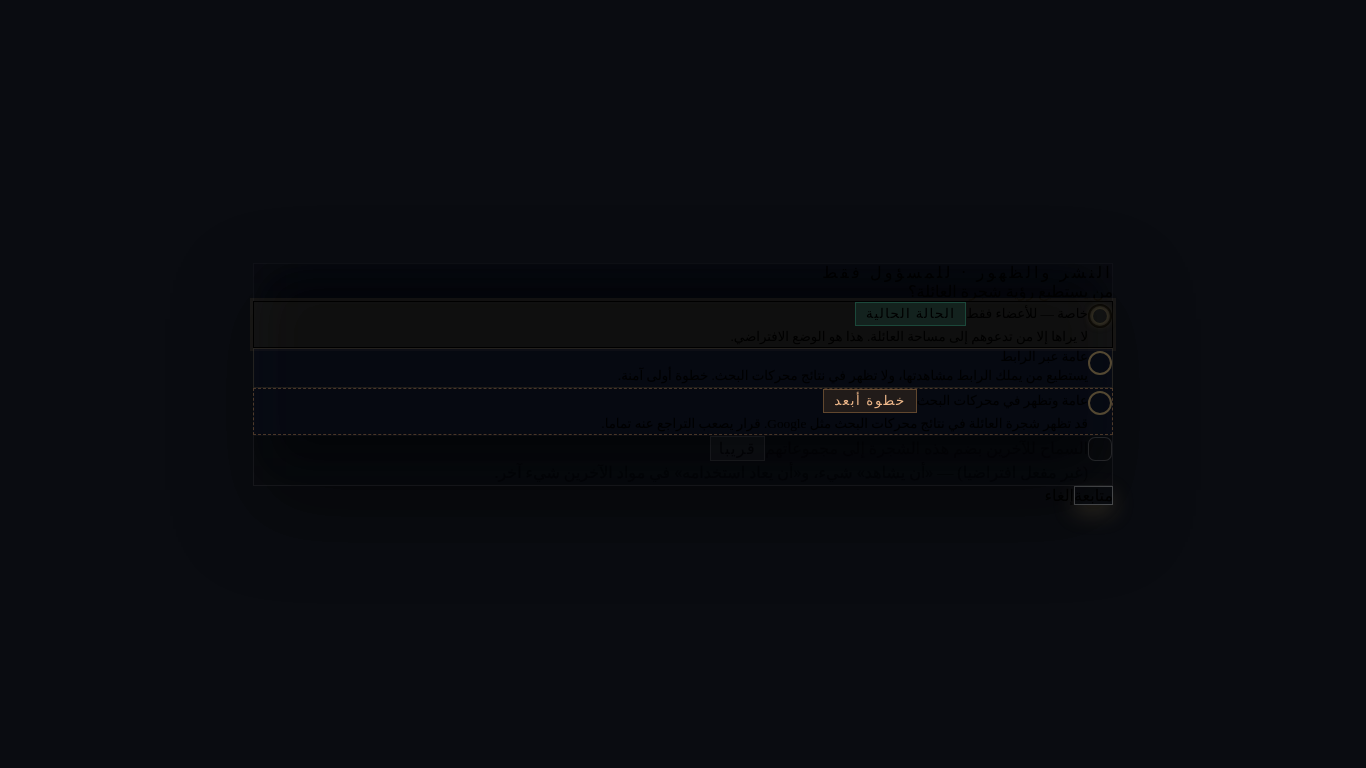
publish flow — «المصادر في الشجرة المنشورة» › the already-public line leaves out the people count when those sources show on nobody
Click the text "عامة عبر الرابط" at (1044, 357), box [1000,349,1088,364]
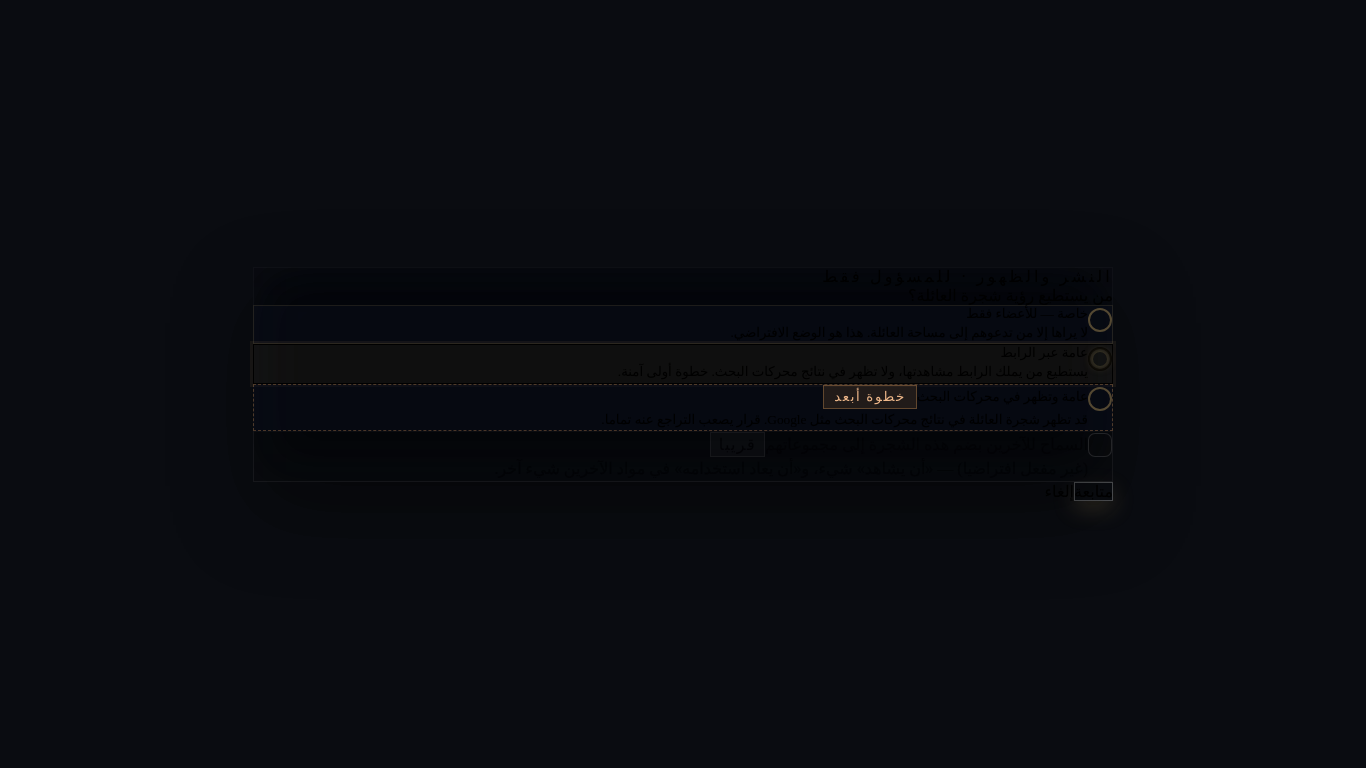
Click the button "متابعة" at (1094, 492), box [1074,482,1113,501]
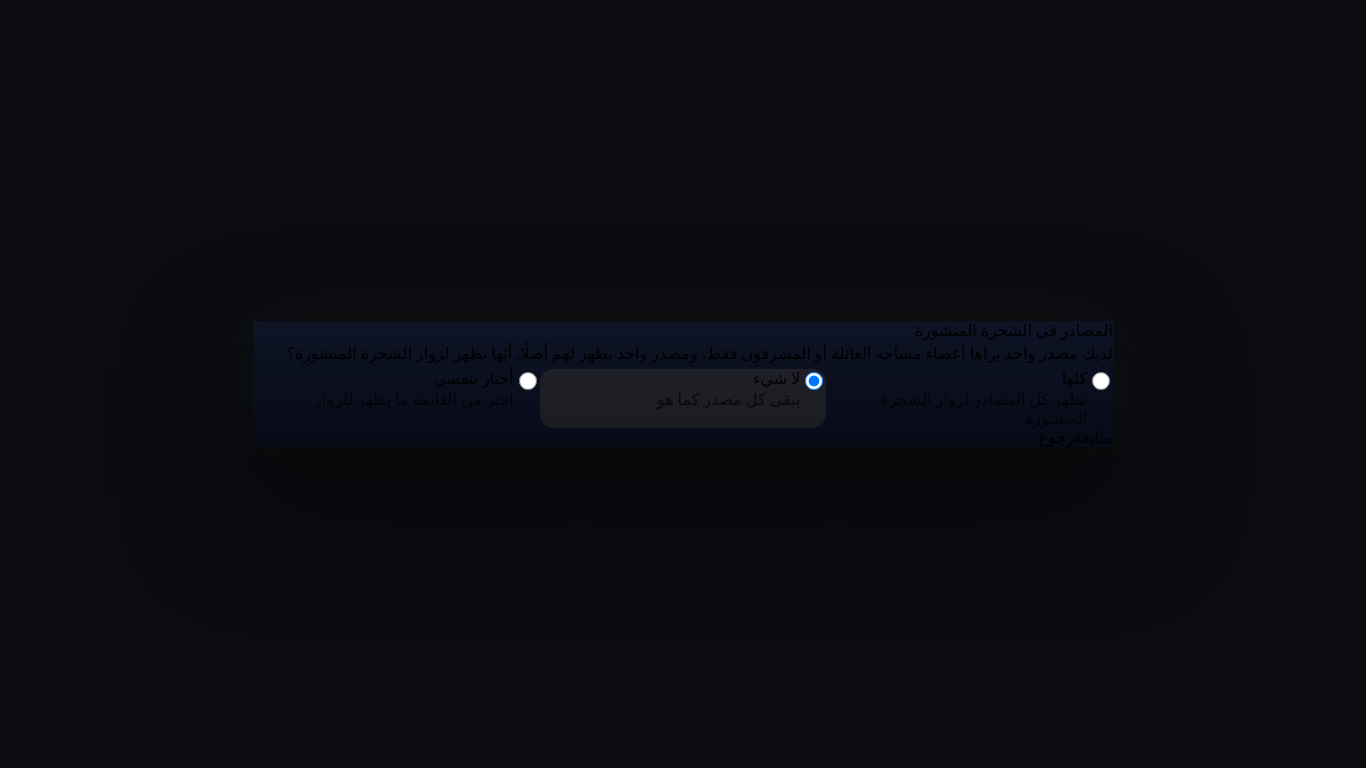
expect the text "المصادر في الشجرة المنشورة" does not show "تظهر على": met, box [253,321,1113,447]
expect the text "المصادر في الشجرة المنشورة" shows "ومصدر واحد يظهر لهم أصلًا": met, box [253,321,1113,447]
